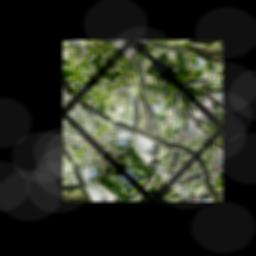Cuckoo: (83, 55, 201, 174)
